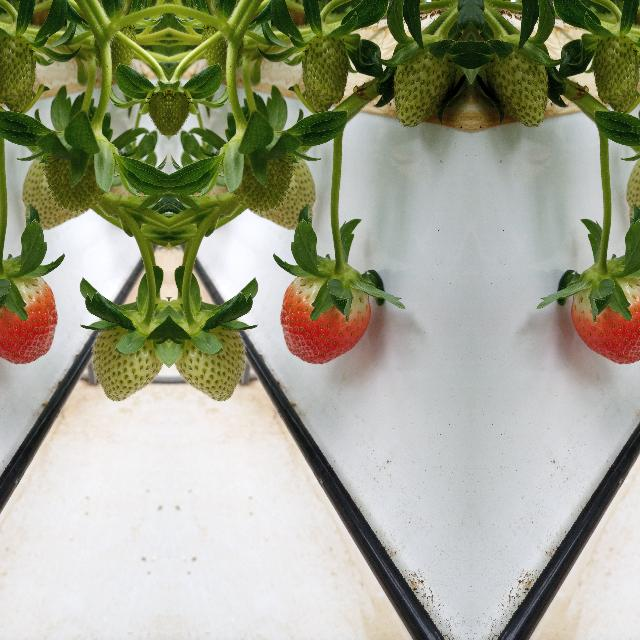Health_100: (278, 276, 370, 364), (571, 276, 640, 364), (0, 276, 58, 364)
Health_25: (218, 128, 326, 230), (10, 128, 118, 230), (172, 294, 250, 408), (86, 294, 164, 408), (380, 38, 456, 136), (486, 38, 560, 136), (296, 36, 354, 114), (587, 36, 640, 113), (0, 36, 39, 113), (615, 128, 640, 230)
